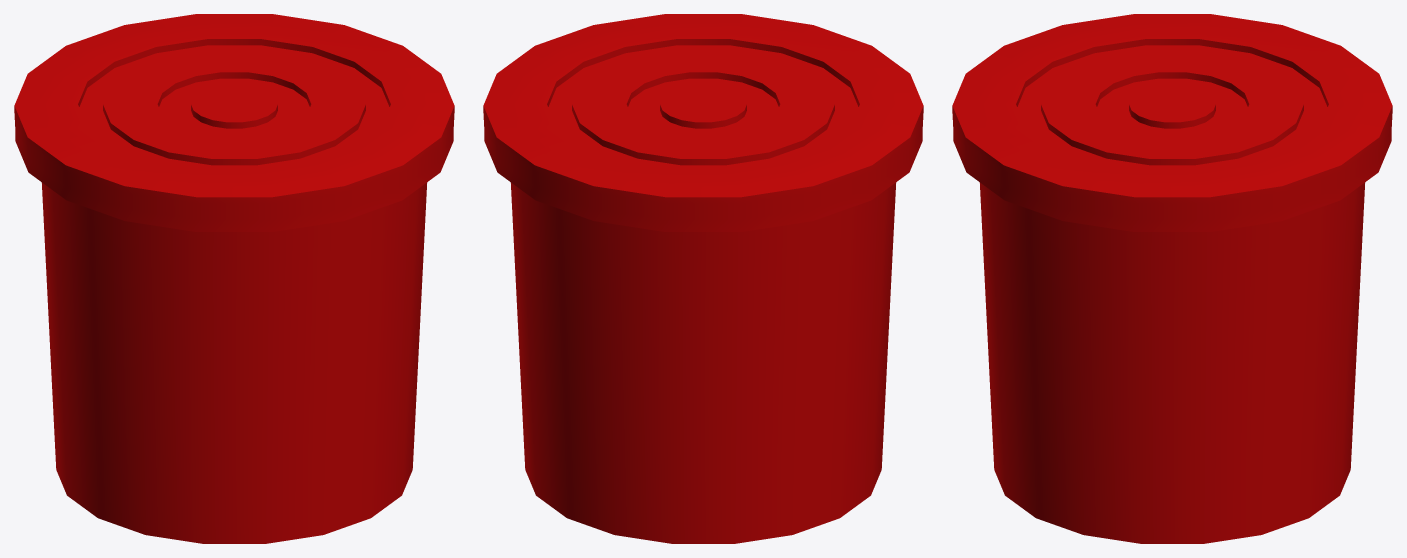
The model's file is ember.obj.
3 views of the same model, side by side, from view 1: azimuth 30°, elevation 25°; view 2: azimuth 150°, elevation 25°; view 3: azimuth 270°, elevation 25° (orthographic).
Visible parts, largest first — view 1: ember; view 2: ember; view 3: ember.
Part boxes in pixels (x1=…): ember: x1=14, y1=14, x2=454, y2=543; ember: x1=483, y1=14, x2=923, y2=543; ember: x1=952, y1=14, x2=1392, y2=543.
Bounding box in the file's own units: 0.2423 × 0.2255 × 0.2461.
